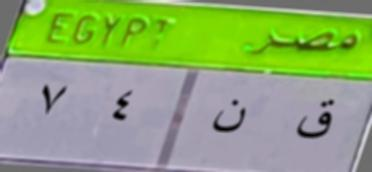4: (104, 84, 142, 129)
7: (31, 78, 72, 120)
noon: (207, 96, 254, 140)
qaaf: (291, 96, 338, 146)
